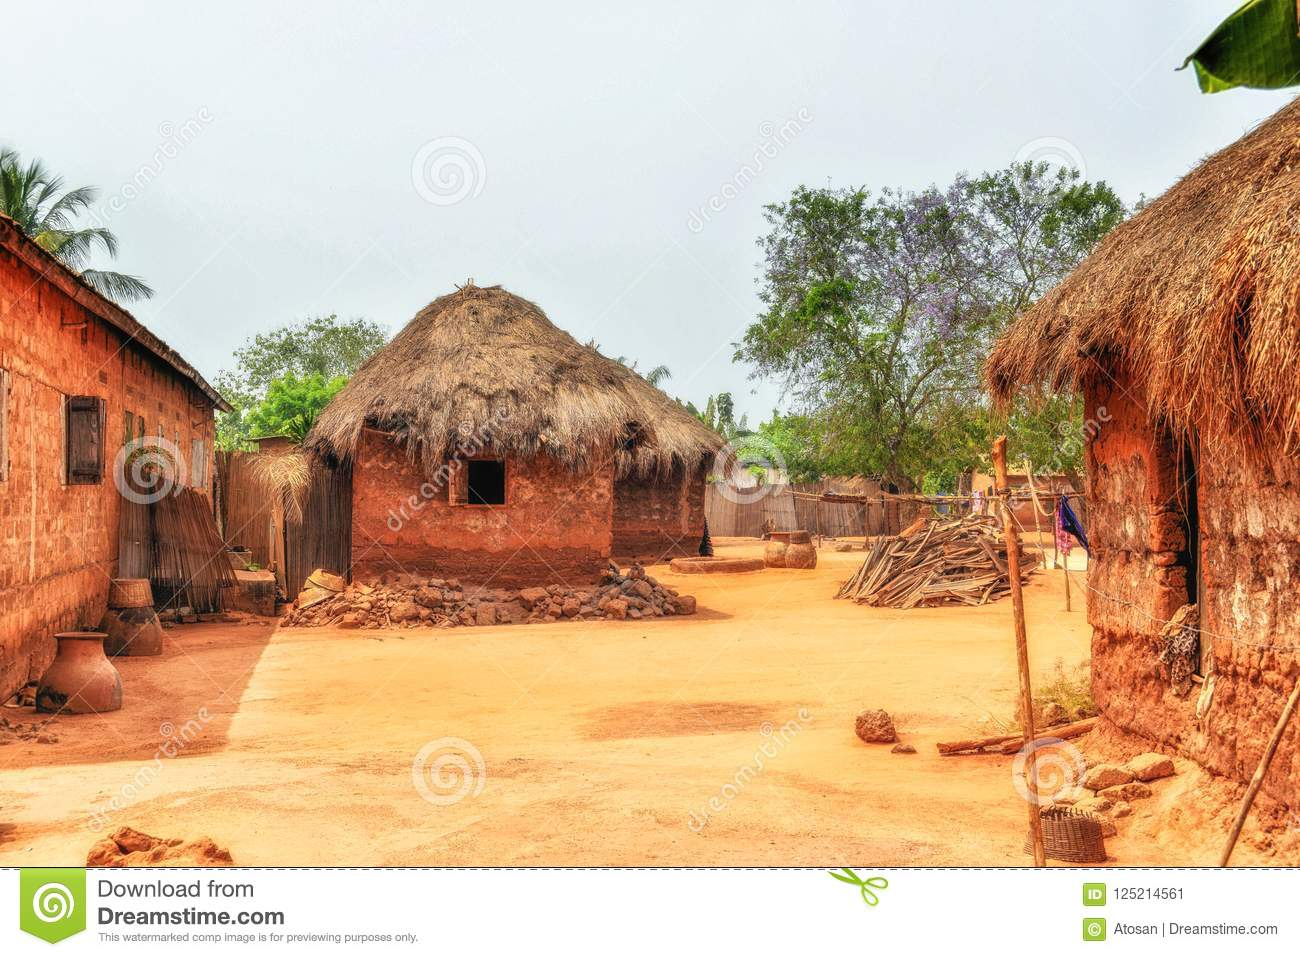Mud House: (996, 206, 1292, 780), (301, 278, 655, 582)
